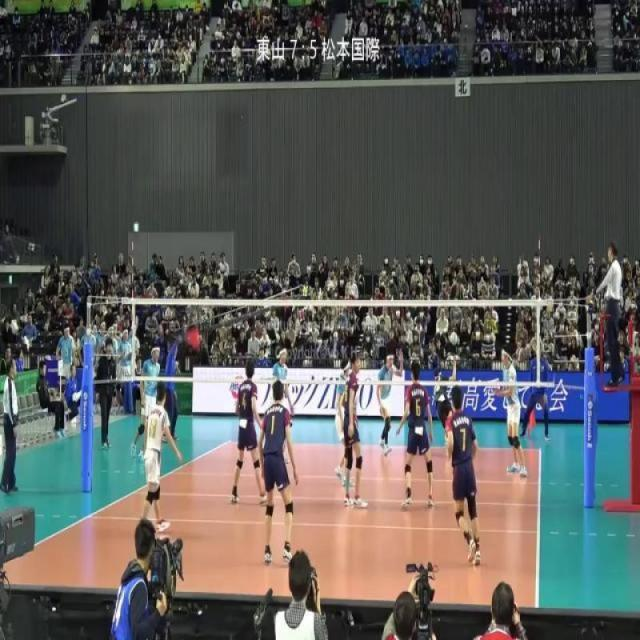volleyball: (450, 331, 458, 346)
